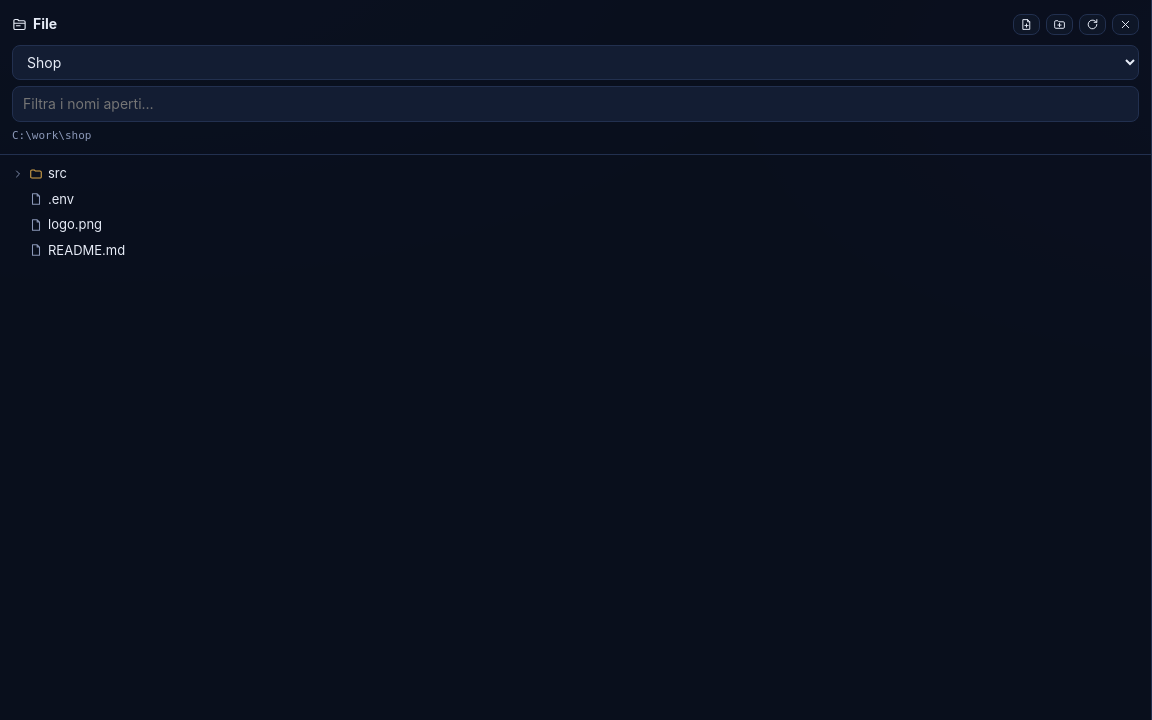
Test case: the file explorer (ADR-039) › filters the names it has read
Expected: the button "README.md" is shown, [4,238,1147,263]
In the search field named "Filtra i file": (576, 104) [12,86,1139,122], type "logo"
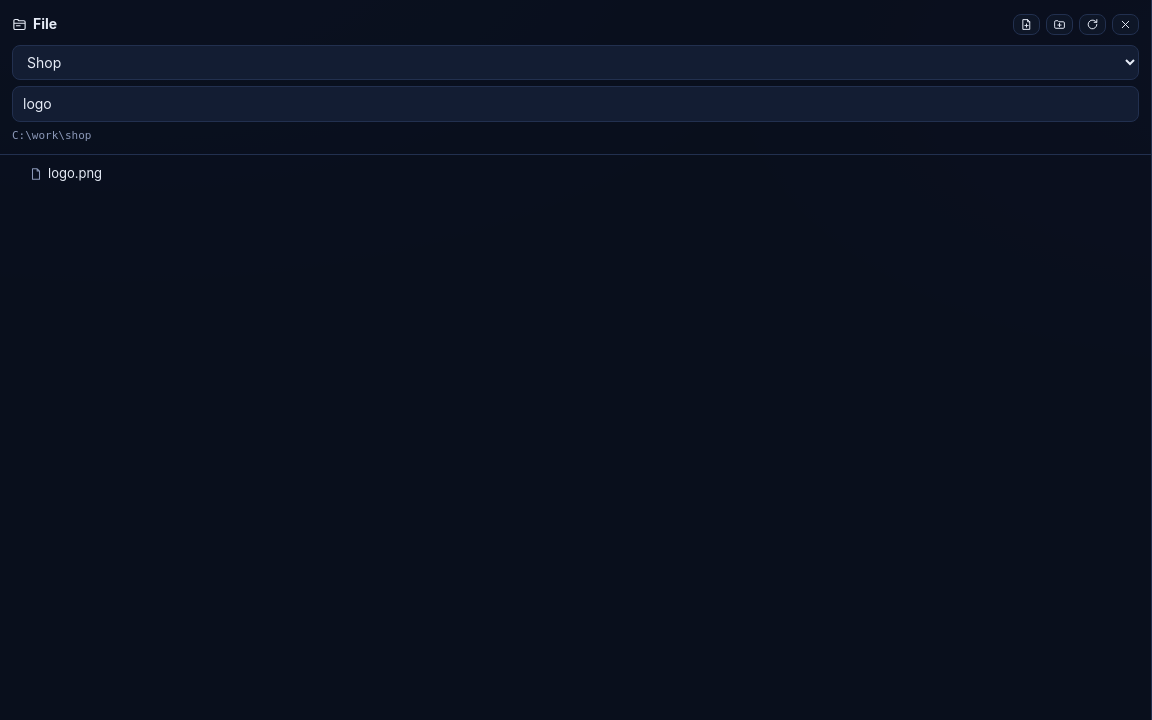
Expected: the button "logo.png" is shown, [4,161,1147,187]
Result: the button "README.md" is gone
